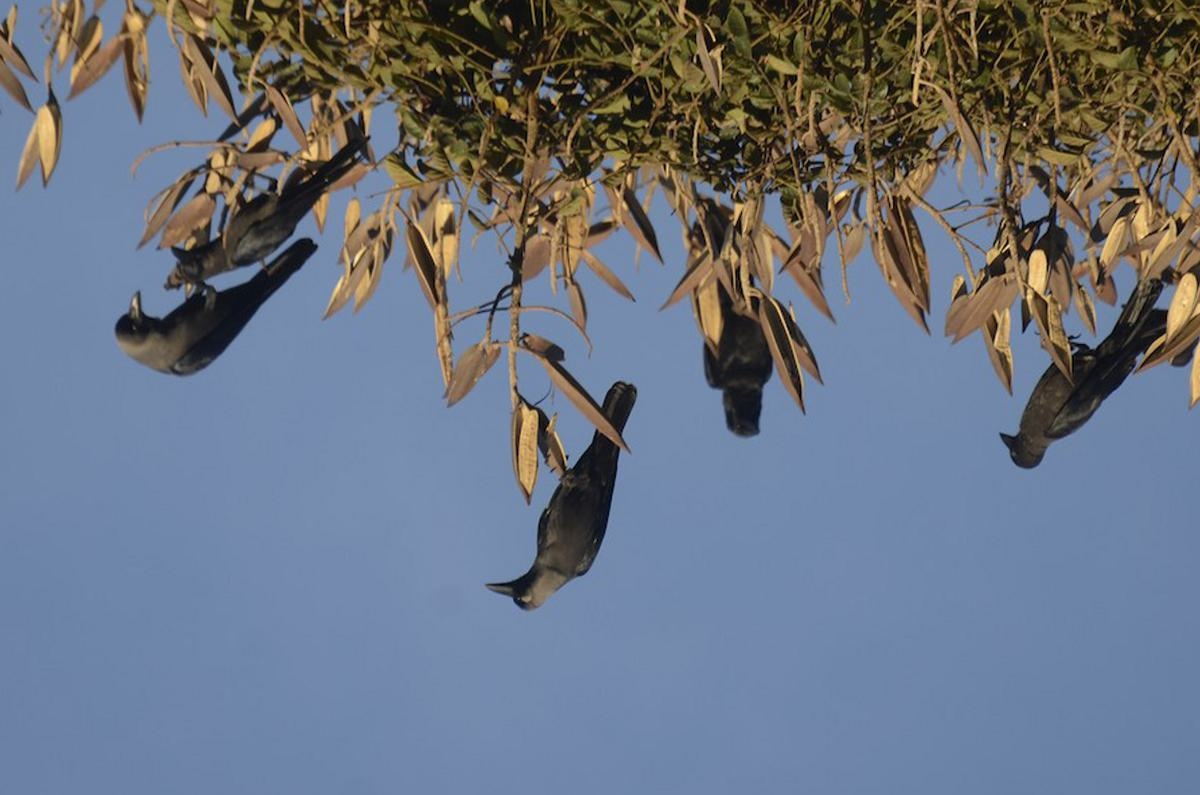crow: (473, 382, 643, 614), (997, 290, 1188, 484), (104, 240, 323, 389)
